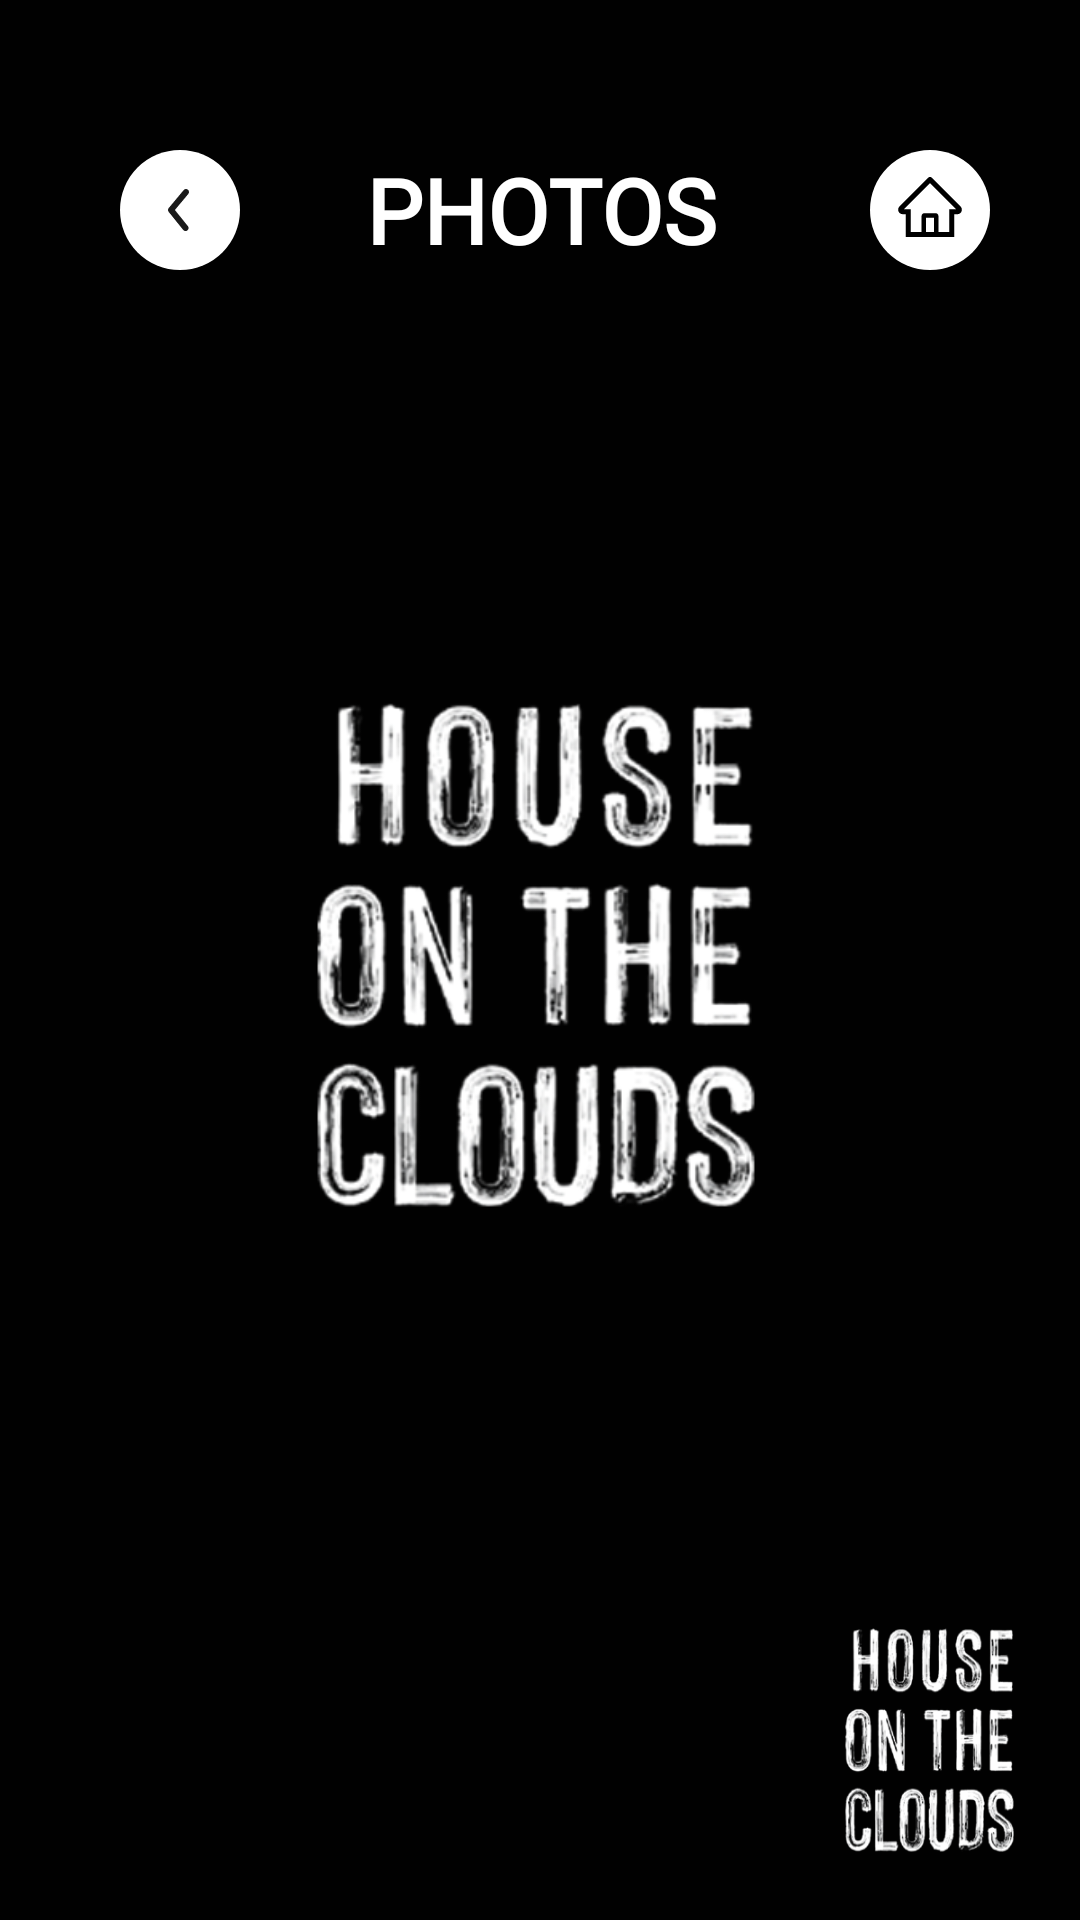

Icons on this 1080*1920 Android screen, each with the point to tap as (x,y):
back: (180,210)
home: (930,210)
